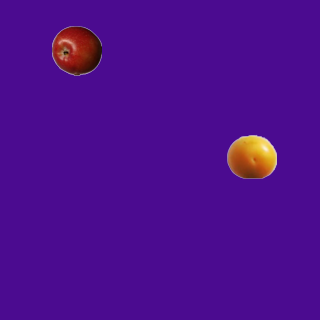Apple Braeburn: (51, 25, 101, 75)
Cherry Wax Yellow: (226, 131, 276, 181)
